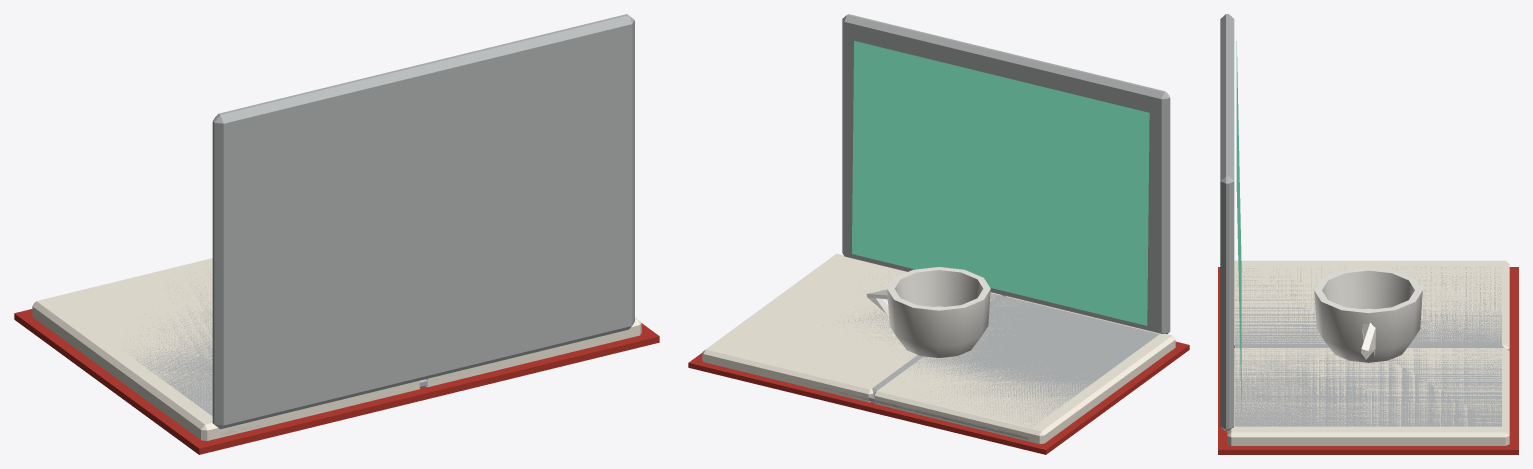
Rendered from patron-props.glb.
3 views of the same model, side by side, from view 1: azimuth 30°, elevation 25°; view 2: azimuth 150°, elevation 25°; view 3: azimuth 270°, elevation 25° (orthographic). The views are drawn at different scales.
Visible parts, largest first — view 1: prop_laptop, prop_book; view 2: prop_laptop, prop_book, prop_cup; view 3: prop_book, prop_laptop, prop_cup.
Boxes of the visible parts, x1,y1,x2,y2 form: prop_laptop: [128, 14, 634, 435]; prop_book: [14, 258, 659, 454]; prop_laptop: [806, 14, 1170, 439]; prop_book: [688, 253, 1189, 454]; prop_cup: [866, 267, 990, 357]; prop_book: [1218, 260, 1518, 454]; prop_laptop: [1220, 14, 1503, 431]; prop_cup: [1314, 267, 1422, 362].
Size of the model in its own units: 0.46 by 0.315 by 0.32.
